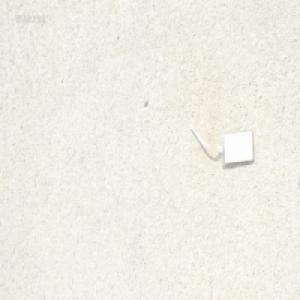LuggageTag: (183, 123, 253, 168)
